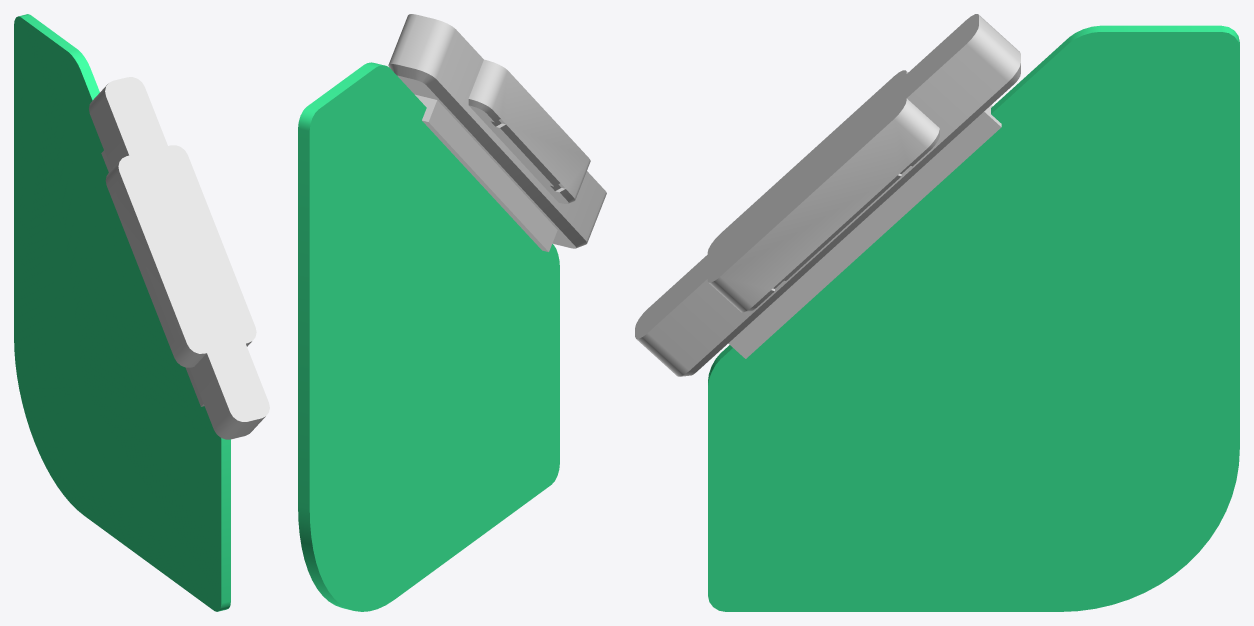
File: SM_MOD_Laser_Floater_WallGlass_02.fbx
3 views of the same model, side by side, from view 1: azimuth 30°, elevation 25°; view 2: azimuth 150°, elevation 25°; view 3: azimuth 270°, elevation 25° (orthographic). The views are drawn at different scales.
Parts seen in each view (by area): view 1: SM_MOD_Laser_Floater_WallGlass_02_LOD0; view 2: SM_MOD_Laser_Floater_WallGlass_02_LOD0; view 3: SM_MOD_Laser_Floater_WallGlass_02_LOD0.
Boxes of the visible parts, left/top/right/bottom form: SM_MOD_Laser_Floater_WallGlass_02_LOD0: left=14, top=14, right=269, bottom=611; SM_MOD_Laser_Floater_WallGlass_02_LOD0: left=298, top=14, right=606, bottom=611; SM_MOD_Laser_Floater_WallGlass_02_LOD0: left=635, top=14, right=1239, bottom=611.
Size of what is drawn, in the model's own units: 28.24 by 181 by 168.
